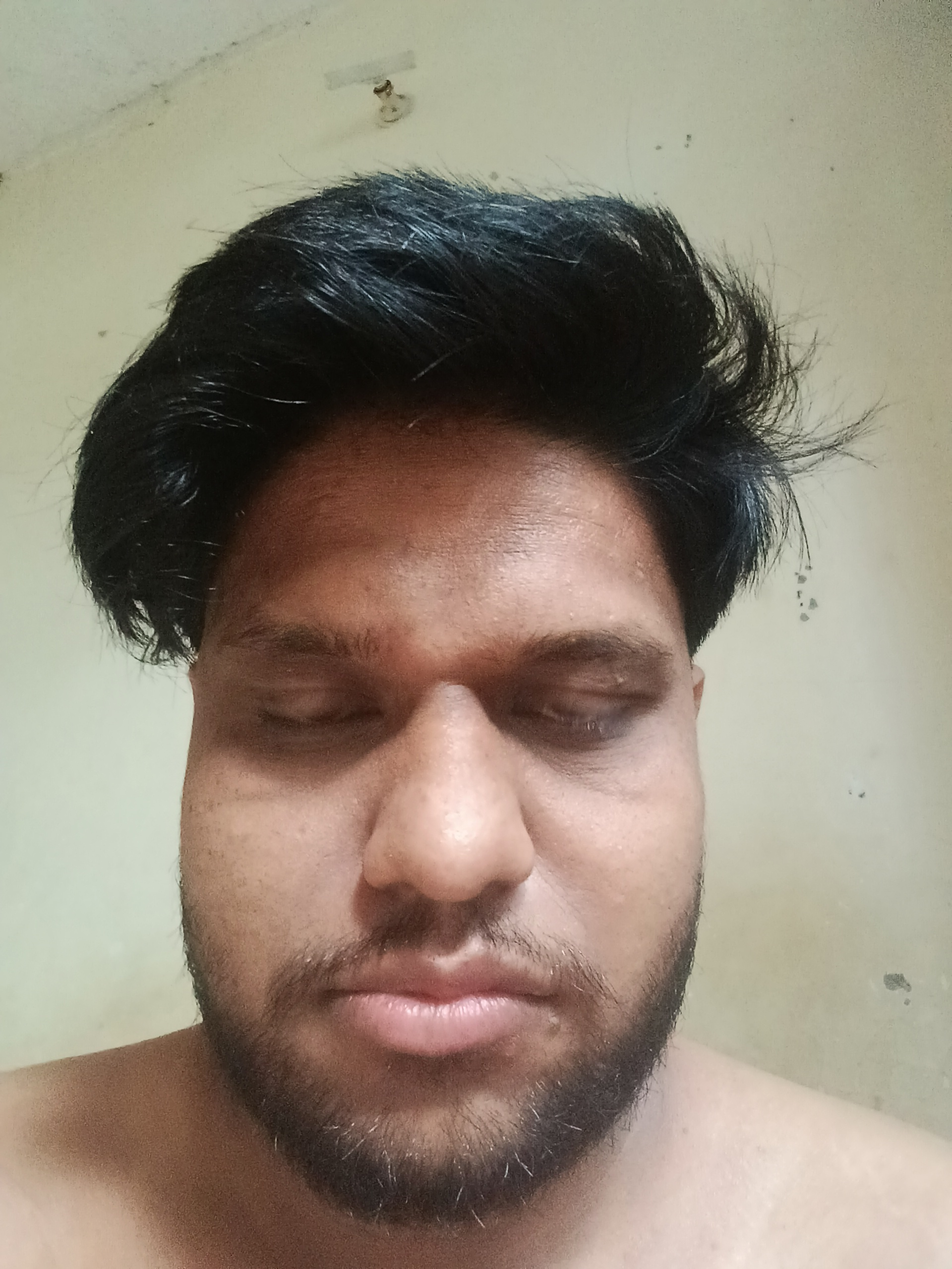closed_comedone: (564, 578, 574, 597), (564, 579, 573, 591), (490, 617, 501, 623), (491, 615, 499, 623), (567, 610, 575, 617), (567, 610, 574, 617), (616, 845, 624, 851), (618, 846, 625, 852), (595, 821, 600, 826), (589, 825, 595, 829)
